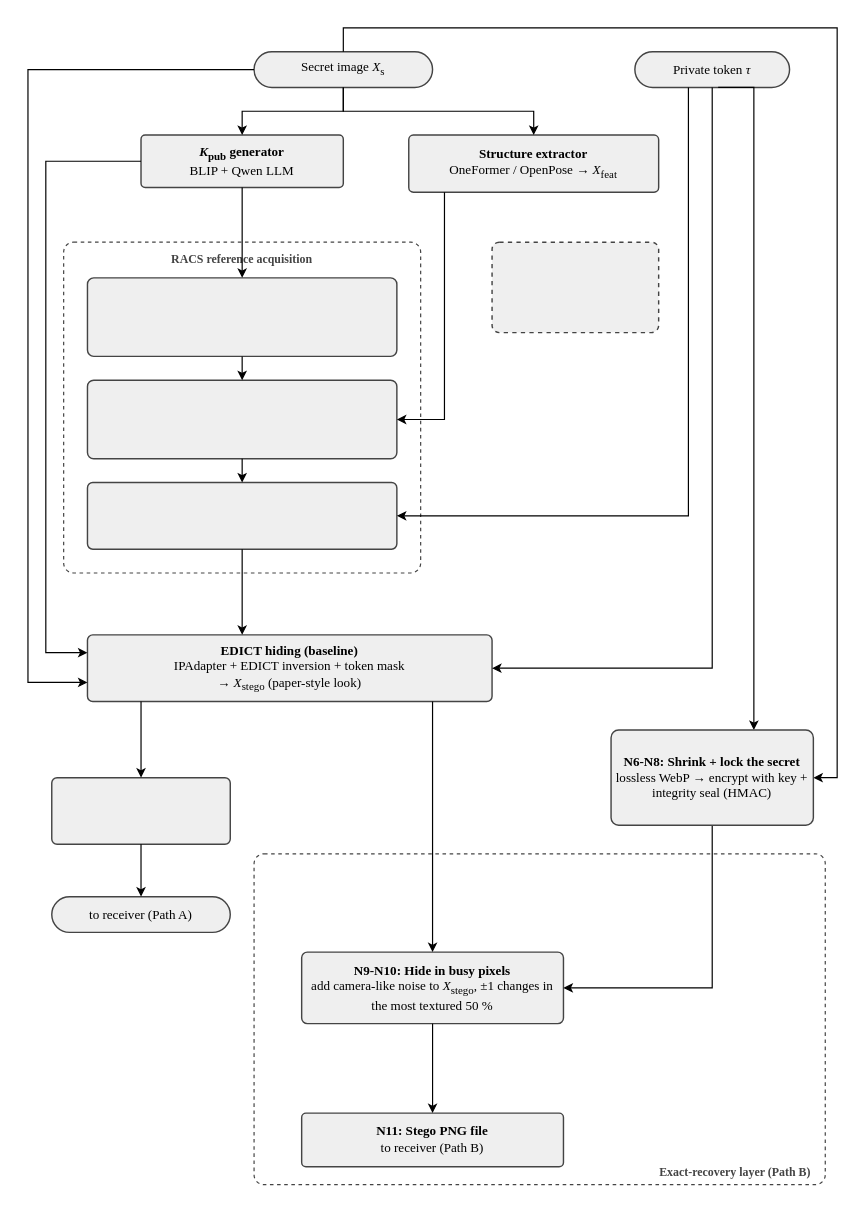
Image size: 866x1205. Some labels were removed from this diagram. Here are the shapes that lost their labels. From the top down, the box of each, then its label:
(491, 241, 659, 333): Diffusion reference generation (removed: 3.9 s, 2.6 GB GPU)
(86, 277, 397, 357): N1-N2: CLIP search K pub → CLIP text vector, exact search, 1,000 images → top 50
(86, 379, 397, 459): N3-N4: Rerank 0.75 meaning + 0.25 structure ( X feat edges) → top 10
(86, 481, 397, 549): N5: Token pick SHA-256( τ ) mod 10 → X ref
(50, 776, 230, 844): Path A: semantic channel SwinJSCC + AWGN
